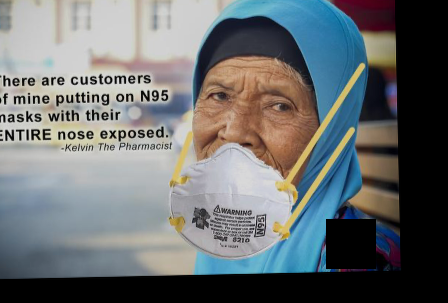mask_weared_incorrect: (191, 73, 314, 205)
